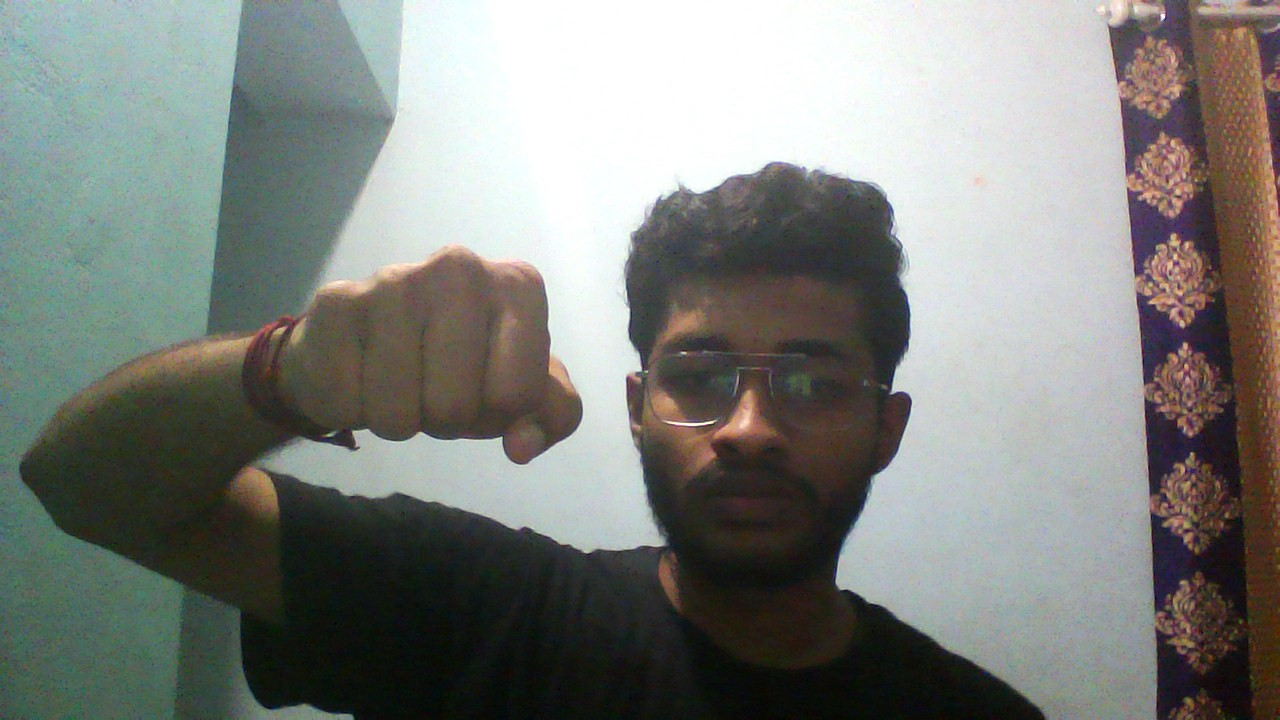Yes: (248, 164, 614, 509)
